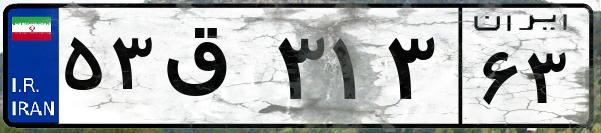1: (330, 28, 385, 110)
3: (270, 28, 330, 110), (385, 28, 445, 110), (525, 38, 570, 115), (110, 28, 158, 98)
5: (57, 26, 110, 100)
6: (475, 38, 525, 113)
ق: (158, 20, 270, 120)
